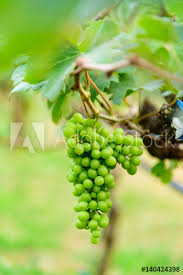grapes: (58, 119, 141, 242)
